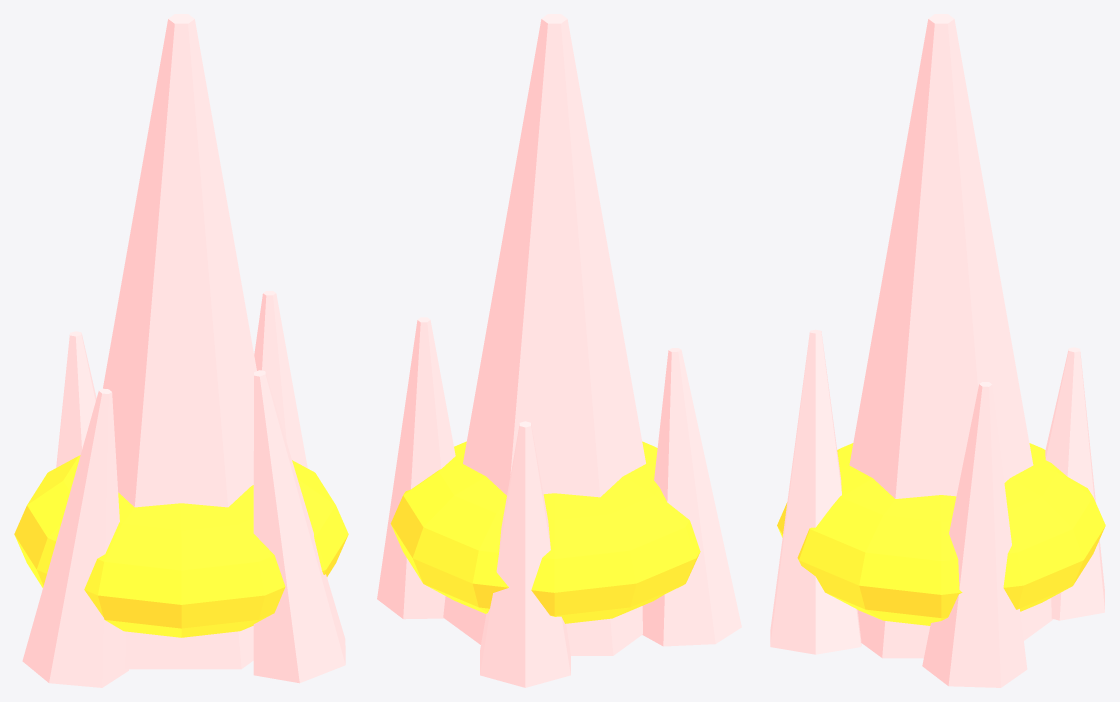
The model's file is prop_volcanus_fire_crystal.fbx.
3 views of the same model, side by side, from view 1: azimuth 30°, elevation 25°; view 2: azimuth 150°, elevation 25°; view 3: azimuth 270°, elevation 25° (orthographic). The views are drawn at different scales.
Parts seen in each view (by area): view 1: Vo_FireCrystal_Main, Vo_FireCrystal_Glow, Vo_FireCrystal_Small_2, Vo_FireCrystal_Small_3, Vo_FireCrystal_Small_0, Vo_FireCrystal_Small_1; view 2: Vo_FireCrystal_Main, Vo_FireCrystal_Glow, Vo_FireCrystal_Small_2, Vo_FireCrystal_Small_1, Vo_FireCrystal_Small_0; view 3: Vo_FireCrystal_Main, Vo_FireCrystal_Glow, Vo_FireCrystal_Small_0, Vo_FireCrystal_Small_3, Vo_FireCrystal_Small_1.
Boxes of the visible parts, left/top/right/bottom form: Vo_FireCrystal_Main: left=103, top=14, right=256, bottom=669; Vo_FireCrystal_Glow: left=14, top=455, right=348, bottom=637; Vo_FireCrystal_Small_2: left=22, top=388, right=128, bottom=687; Vo_FireCrystal_Small_3: left=253, top=370, right=345, bottom=683; Vo_FireCrystal_Small_0: left=254, top=291, right=327, bottom=578; Vo_FireCrystal_Small_1: left=56, top=331, right=96, bottom=467; Vo_FireCrystal_Main: left=443, top=14, right=645, bottom=655; Vo_FireCrystal_Glow: left=390, top=441, right=700, bottom=623; Vo_FireCrystal_Small_2: left=642, top=348, right=741, bottom=646; Vo_FireCrystal_Small_1: left=480, top=421, right=570, bottom=687; Vo_FireCrystal_Small_0: left=377, top=317, right=455, bottom=619; Vo_FireCrystal_Main: left=849, top=14, right=1053, bottom=658; Vo_FireCrystal_Glow: left=777, top=443, right=1105, bottom=625; Vo_FireCrystal_Small_0: left=922, top=382, right=1027, bottom=687; Vo_FireCrystal_Small_3: left=770, top=329, right=861, bottom=654; Vo_FireCrystal_Small_1: left=1045, top=347, right=1104, bottom=620.
Bounding box in the file's own units: 0.5398 × 1.01 × 0.5103.
